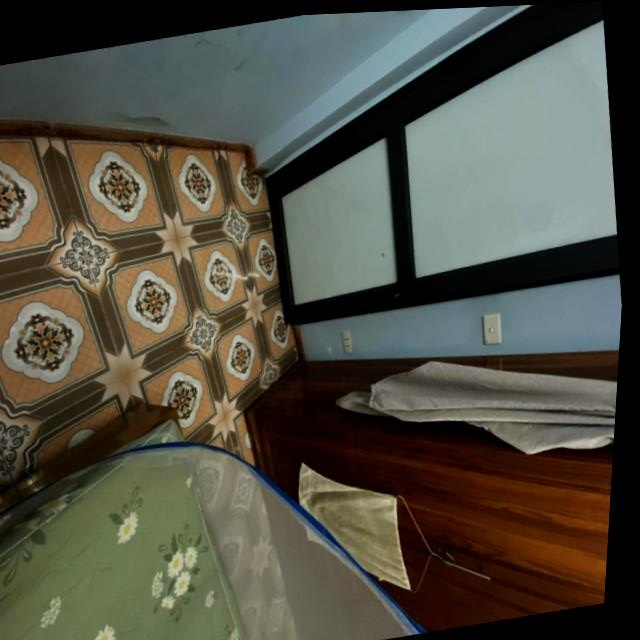outlet: (340, 329, 356, 354)
